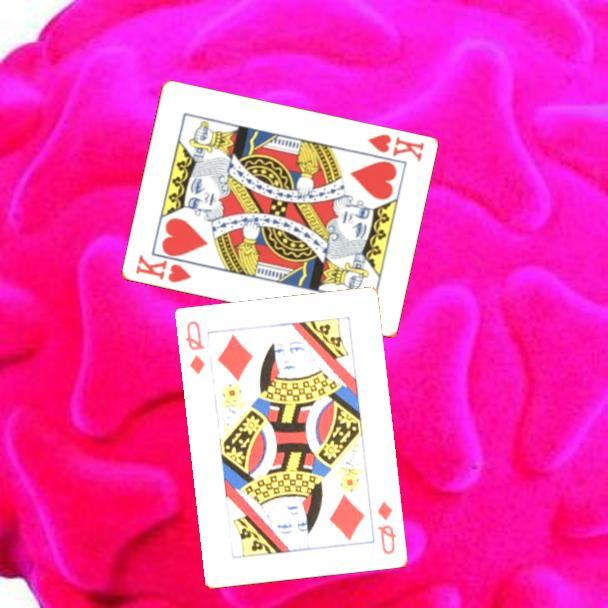d12: (182, 318, 208, 378), (374, 498, 400, 557)
h13: (132, 251, 194, 286), (364, 131, 427, 165)
